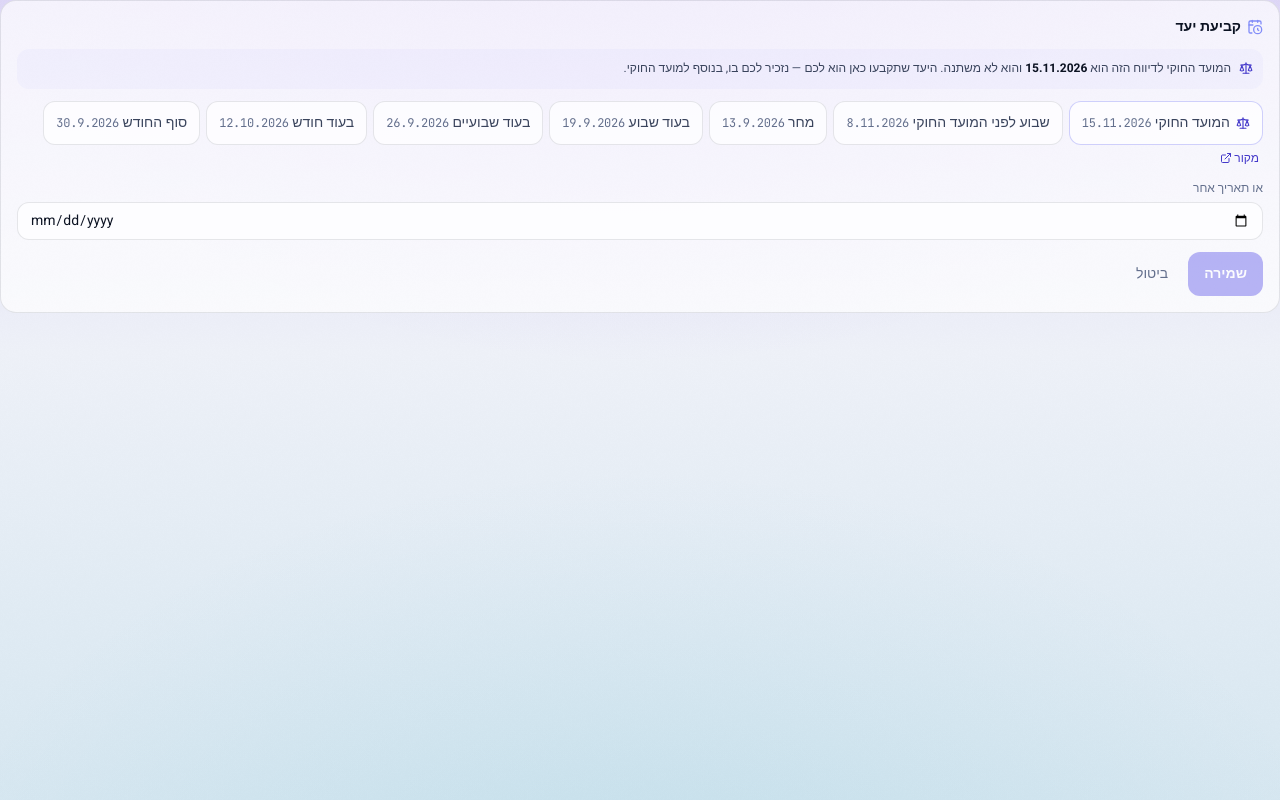
it: a target that plans to be late › warns, and names the legal date
The image size is (1280, 800).
In the date field labelled "או תאריך אחר": (640, 221) [17,202,1263,240], type "2026-12-01"
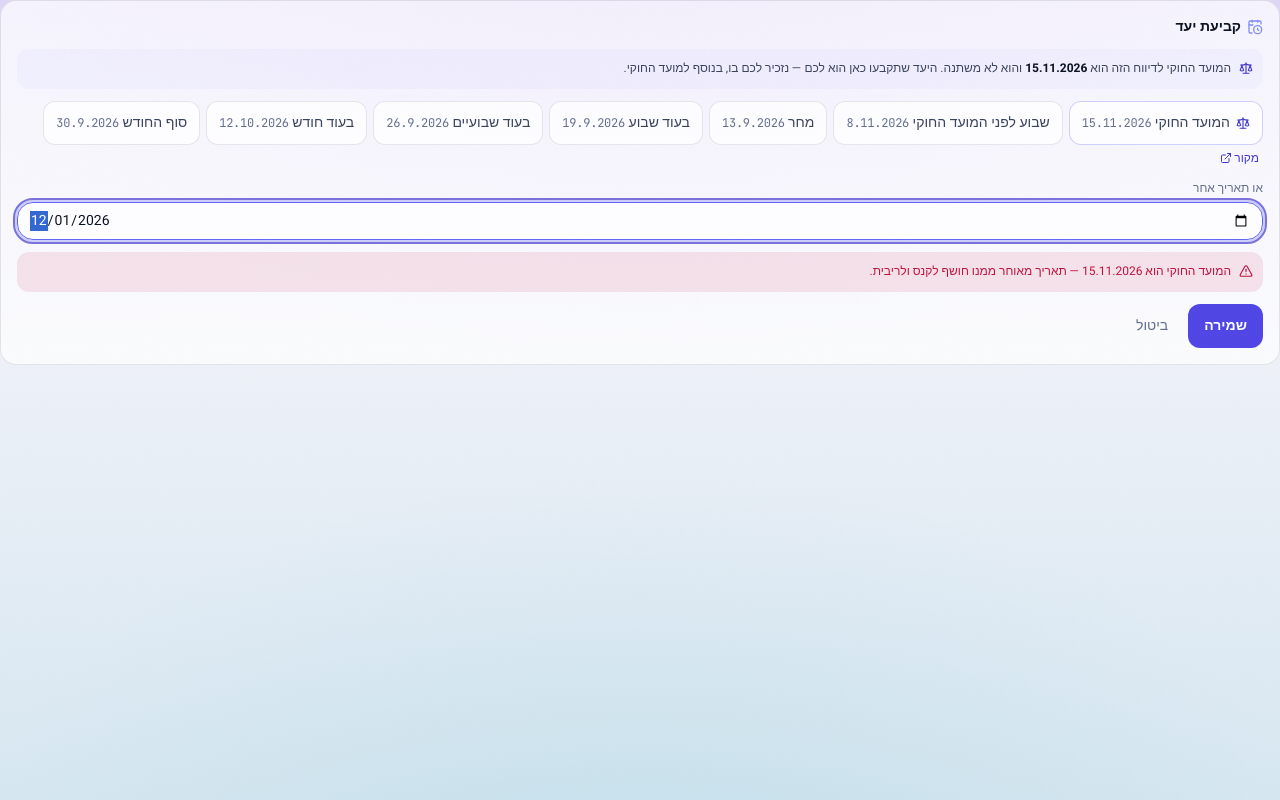
Now the message shows "15.11.2026", box [870,262,1231,280]
Now the message reads "המועד החוקי הוא 15.11.2026 — תאריך מאוחר ממנו חושף לקנס ולריבית.", box [870,262,1231,280]
